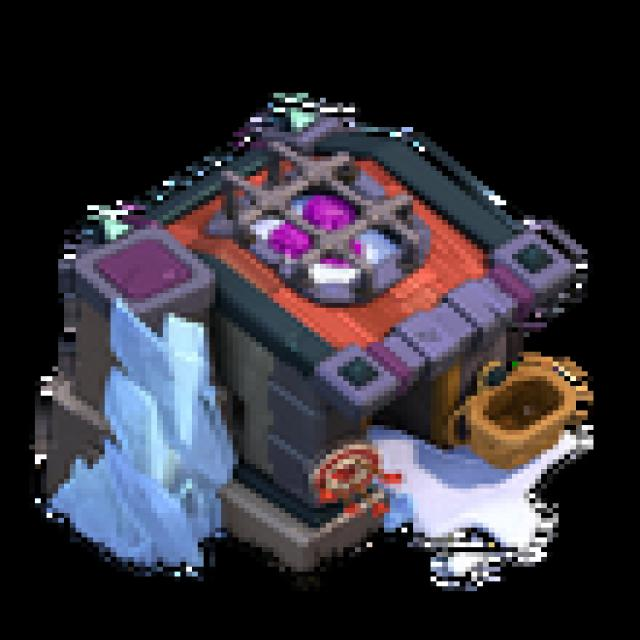barracks: (0, 75, 640, 604)
